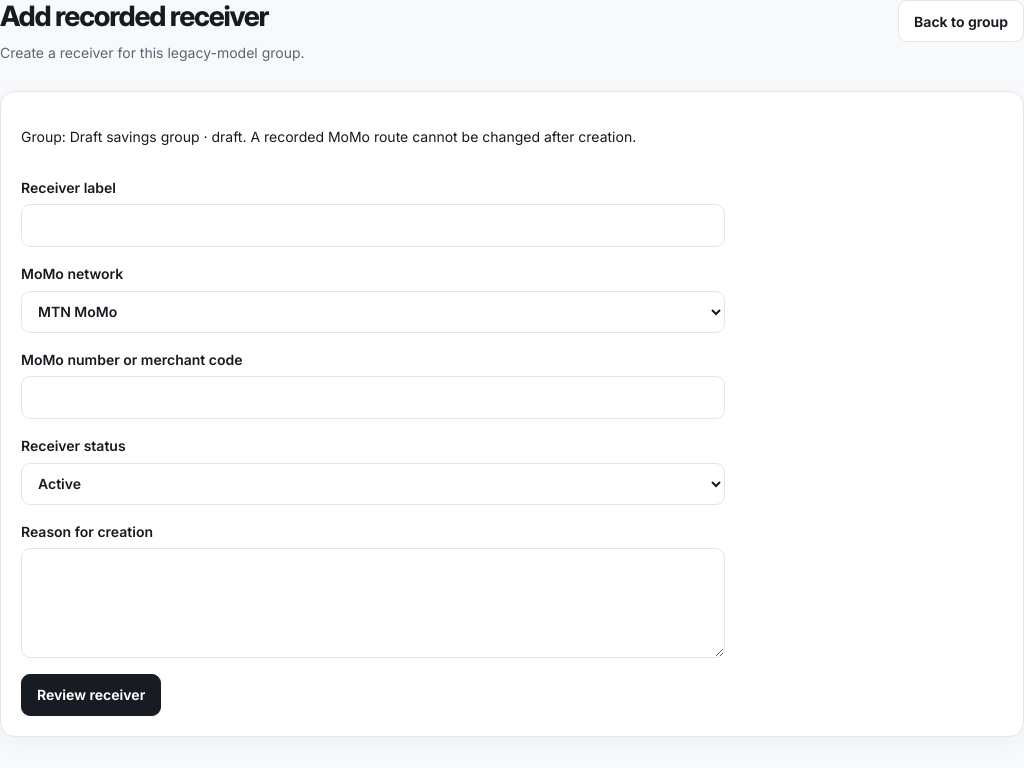
legacy distinct payee creation › refuses a group archived after review, before any request is retained or sent
Type "Recorded beneficiary" into the field labelled "Receiver label" at point(373, 226), box x1=21 y1=204 x2=725 y2=247
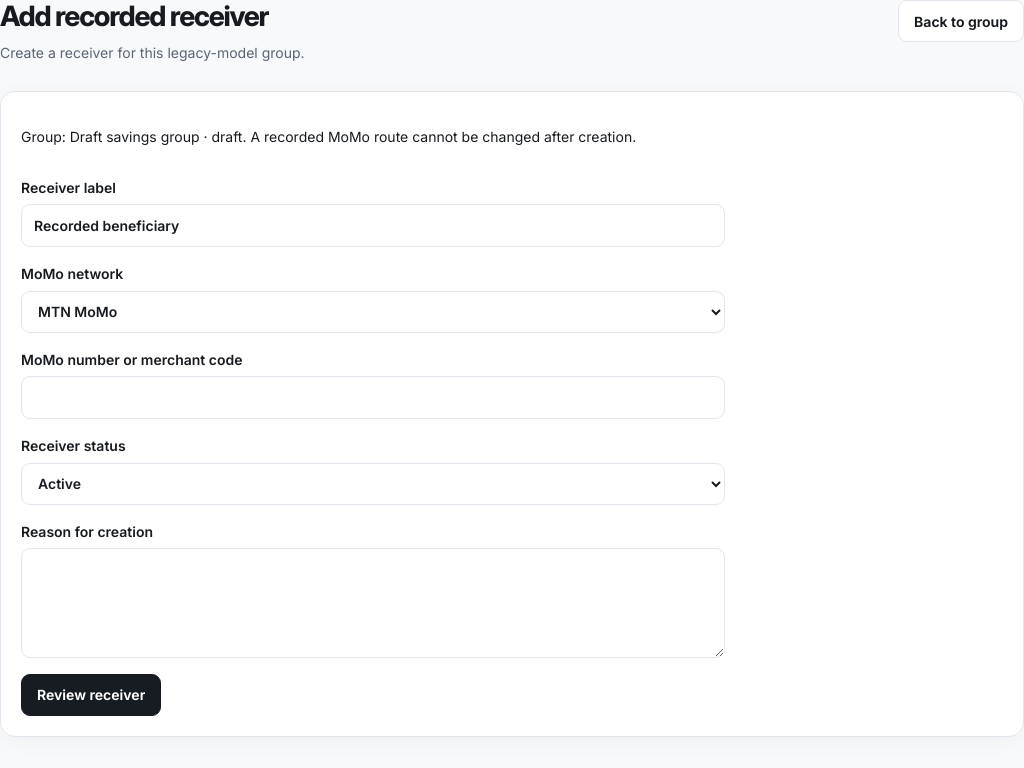
Type "008000" into the field labelled "MoMo number or merchant code" at point(373, 398), box x1=21 y1=376 x2=725 y2=419
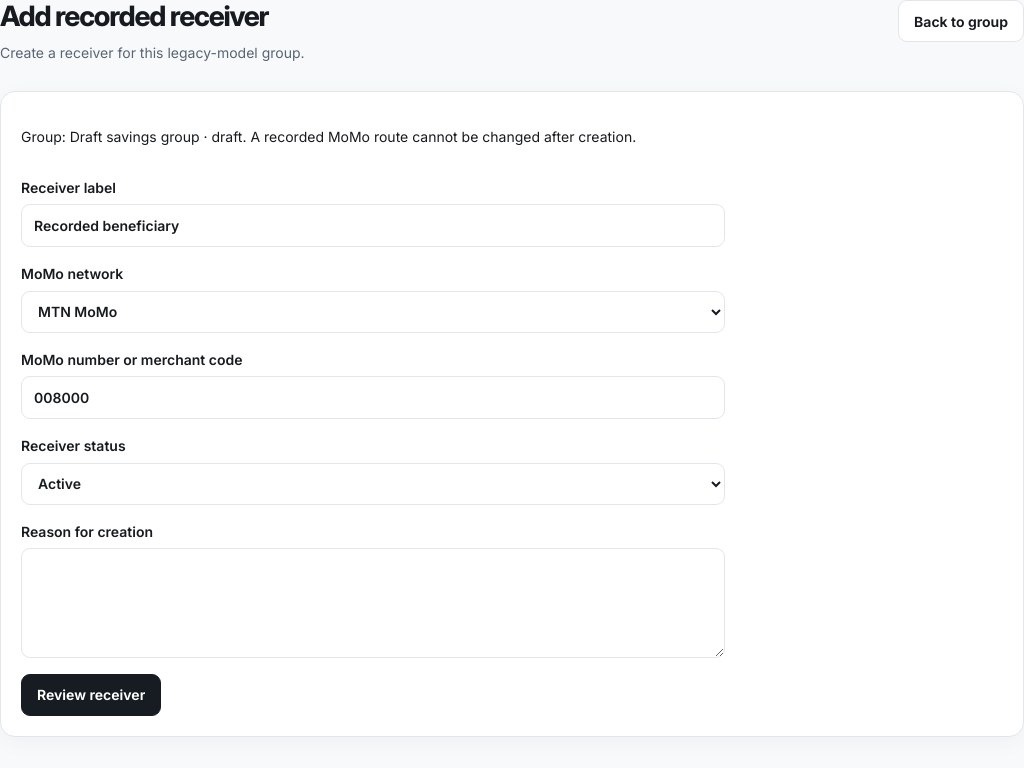
Type "Record reviewed receiver" into the text box labelled "Reason for creation" at point(373, 603), box x1=21 y1=548 x2=725 y2=658
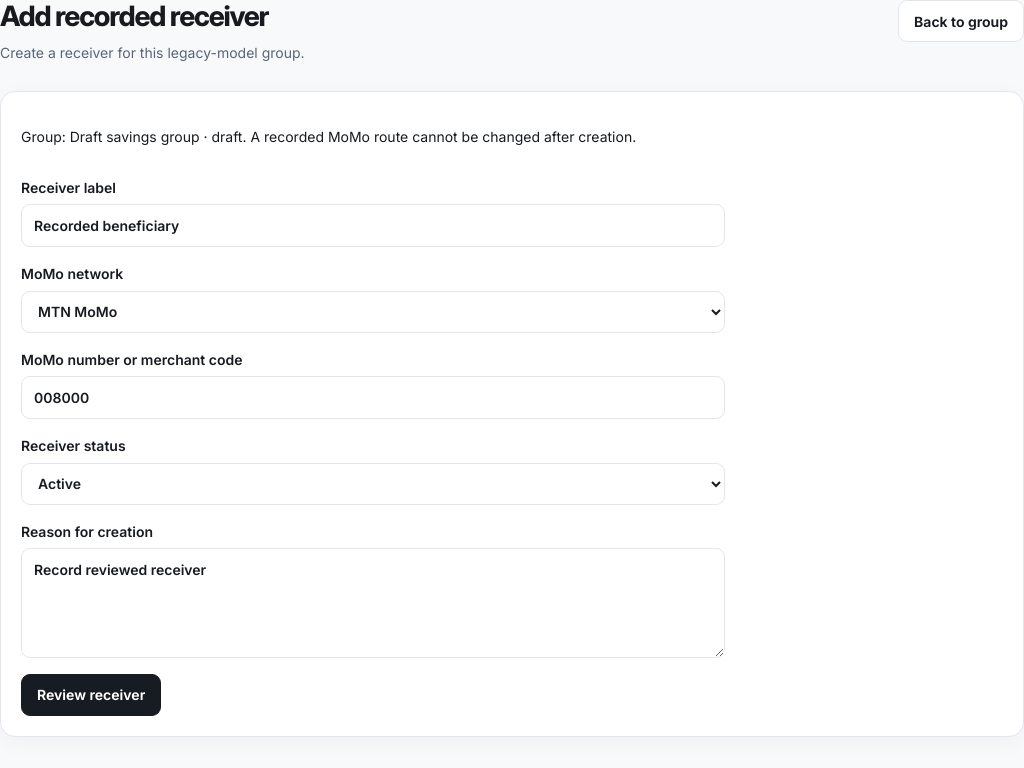
Click the button "Review receiver" at point(91, 695), box x1=21 y1=674 x2=161 y2=716
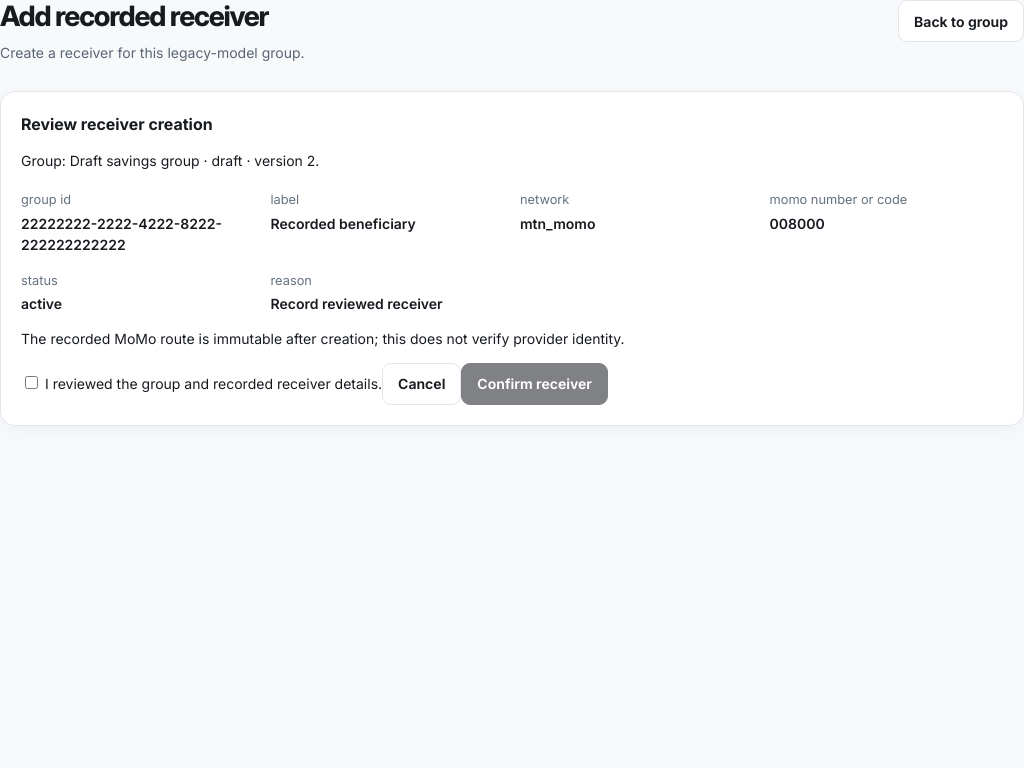
Click the checkbox at point(32, 383), box x1=25 y1=376 x2=38 y2=390
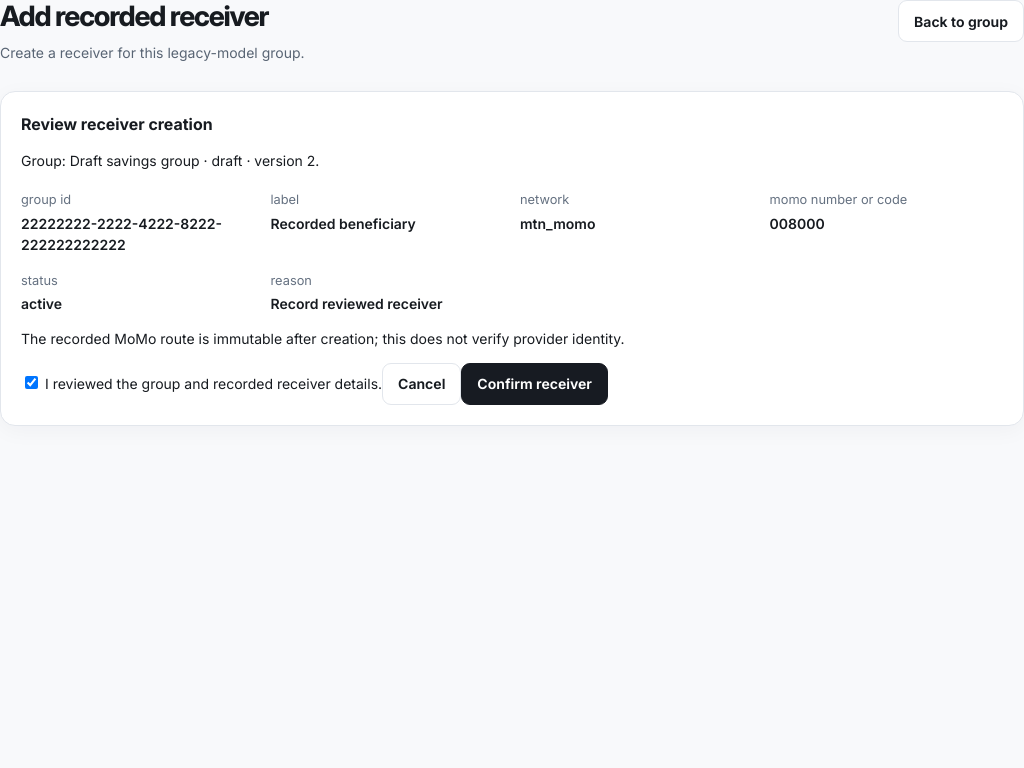
Click the button "Confirm receiver" at point(535, 384), box x1=461 y1=363 x2=608 y2=405
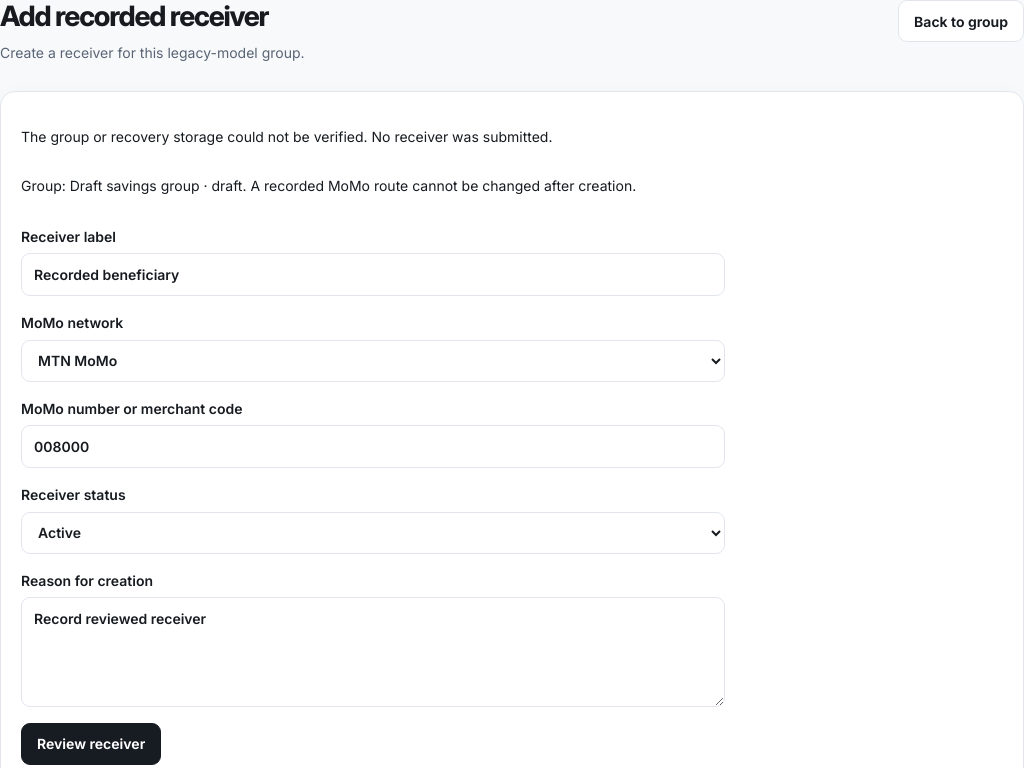
Result: the text "No receiver was submitted" is shown at x1=21 y1=128 x2=552 y2=145
